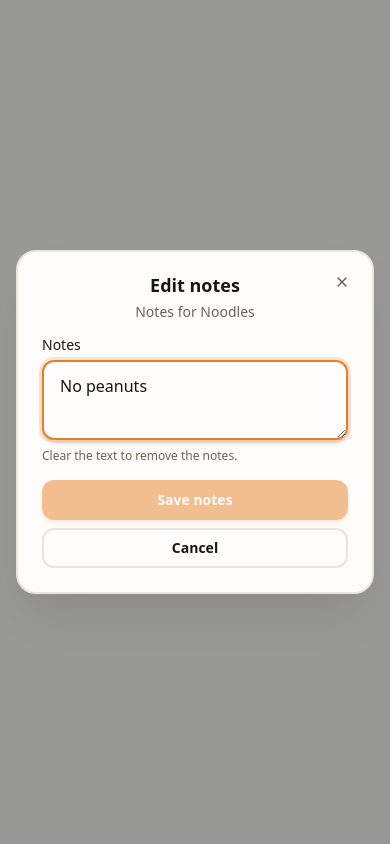
Test: food request notes editor › keeps the draft open after a network error
Replace the text in the text box with "Keep this draft" at x=195, y=400, box [42,360,348,440]
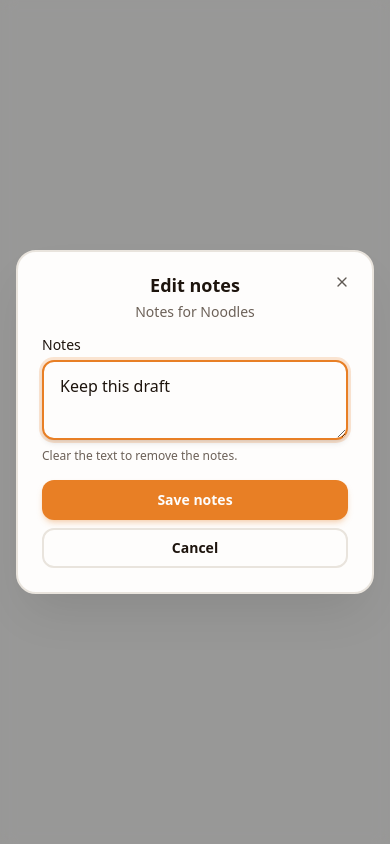
Click the button "Save notes" at x=195, y=500, box [42,480,348,520]
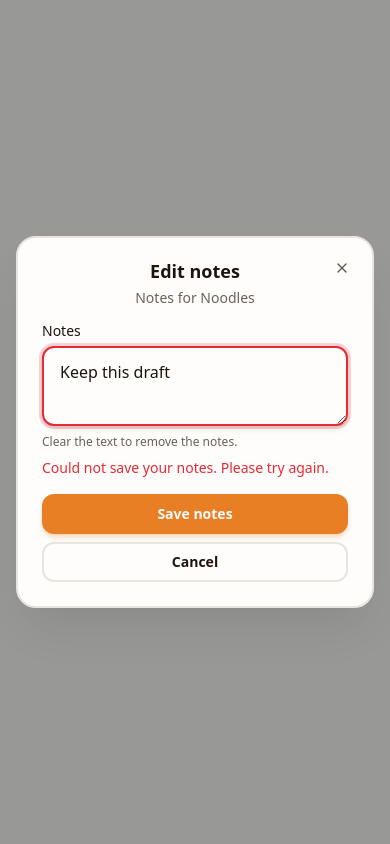
Expected: the message reads "Could not save your notes. Please try again.", [42,458,329,477]
